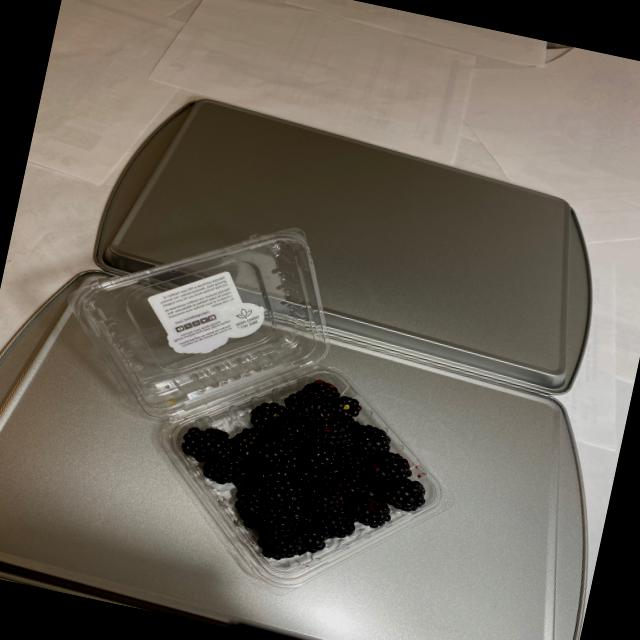blackberries: (120, 317, 458, 593)
